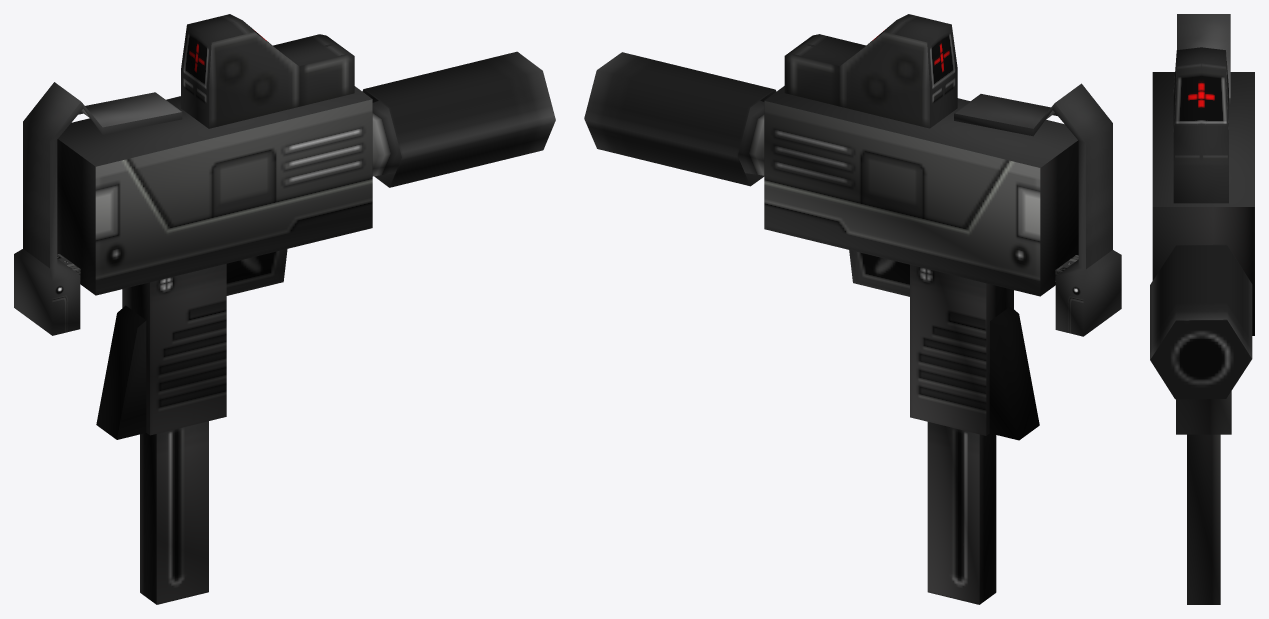
Rendered from smg uzi lv3.FBX.
3 renders of one model, left to right at view 1: azimuth 30°, elevation 25°; view 2: azimuth 150°, elevation 25°; view 3: azimuth 270°, elevation 25°, orthographic.
Visible parts, largest first — view 1: Object035; view 2: Object035; view 3: Object035.
Boxes of the visible parts, bbox=[...] form: Object035: bbox=[14, 14, 555, 604]; Object035: bbox=[584, 14, 1121, 604]; Object035: bbox=[1150, 14, 1254, 604].
Bounding box in the file's own units: 48.19 × 51.72 × 8.83.
